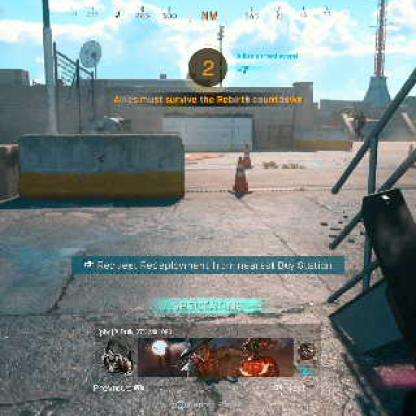enemy: (354, 108, 365, 140)
